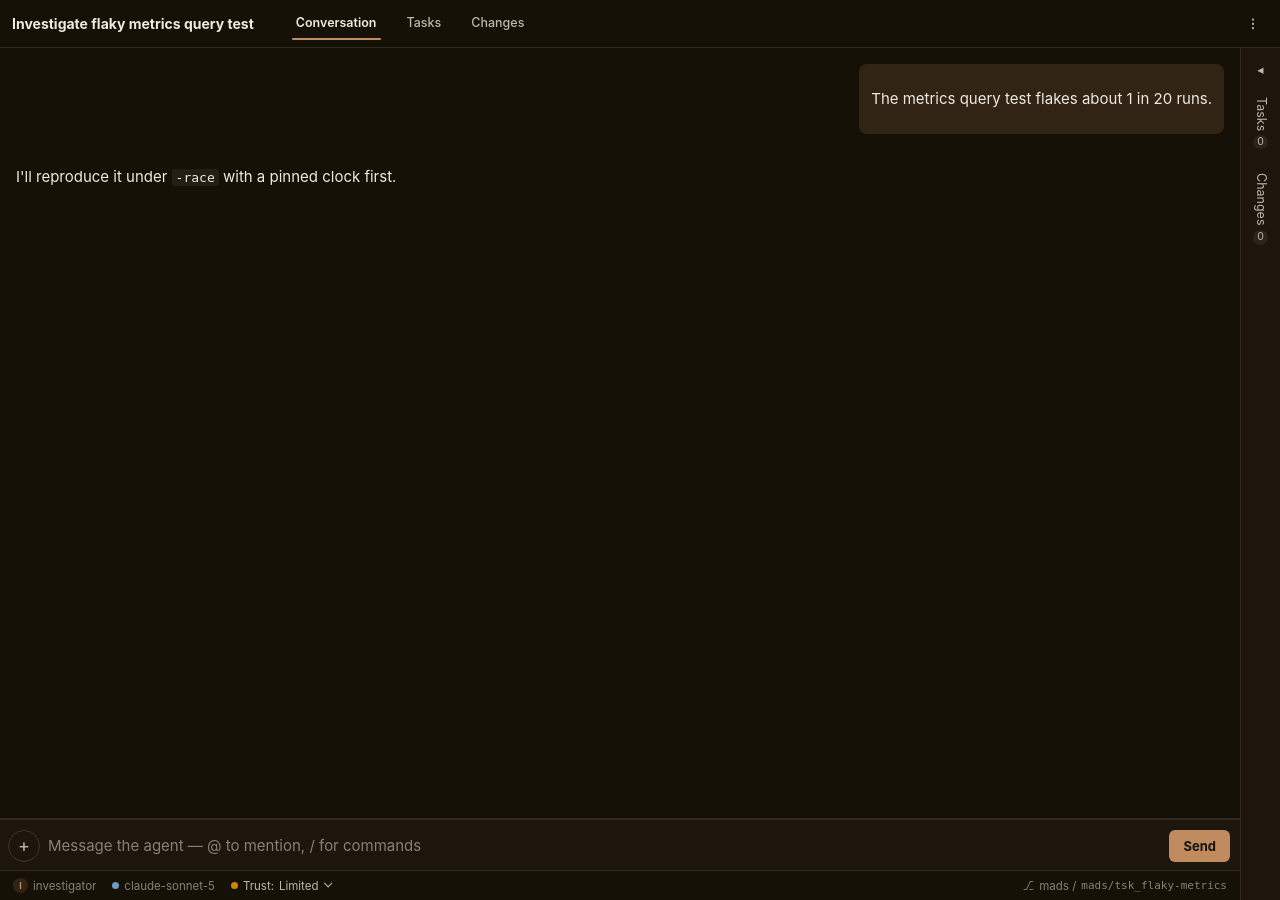
Scenario: SessionWorkspace › kebab always shows all three actions; while inactive, Wake now, Delete, and Sleep now are all enabled
Click the button named "Workspace actions": (1253, 24) left=1238, top=10, right=1268, bottom=36
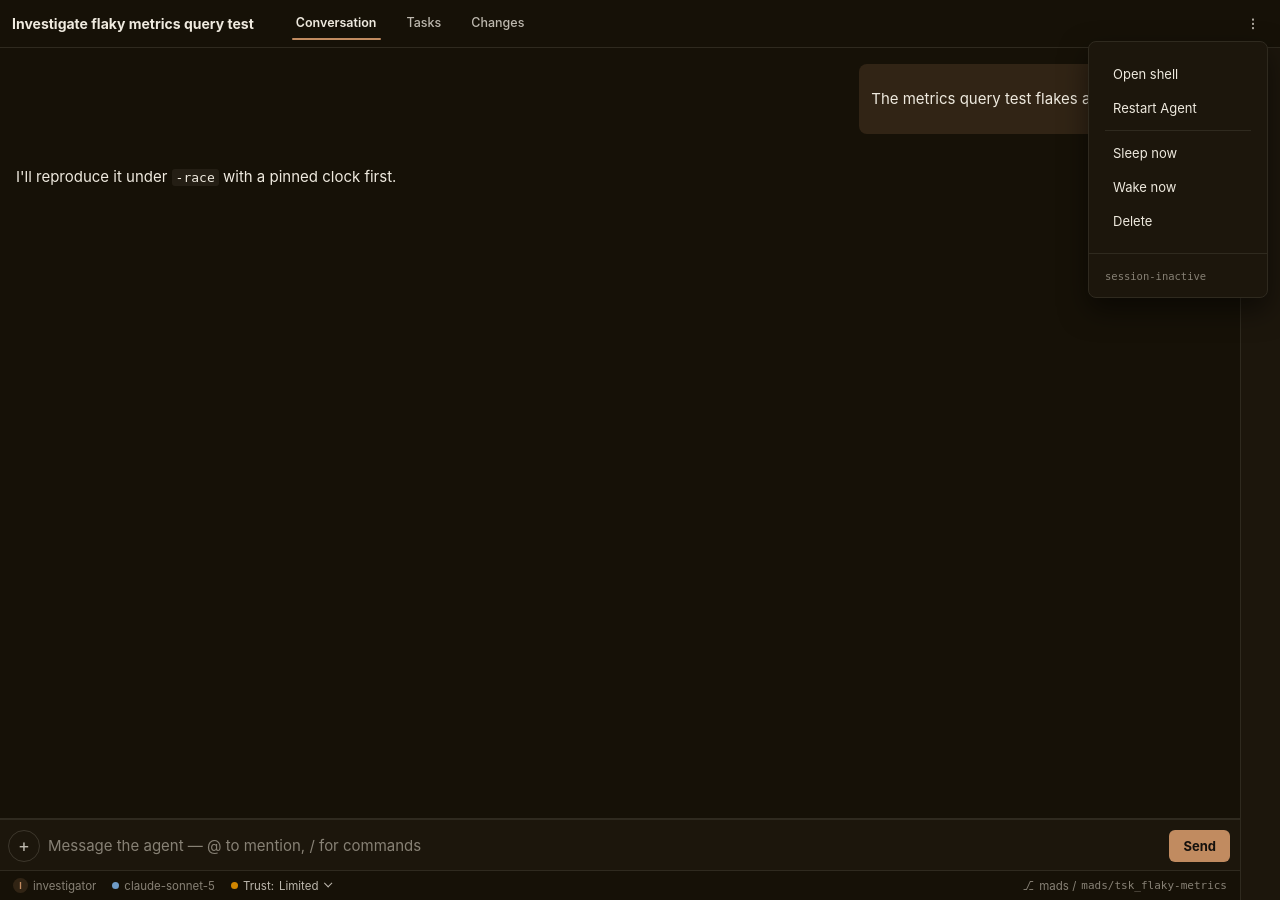
Now the button "Wake now" is enabled, box left=1105, top=170, right=1251, bottom=202
Now the button "Delete" is enabled, box left=1105, top=204, right=1251, bottom=236
Now the button "Sleep now" is enabled, box left=1105, top=136, right=1251, bottom=168
